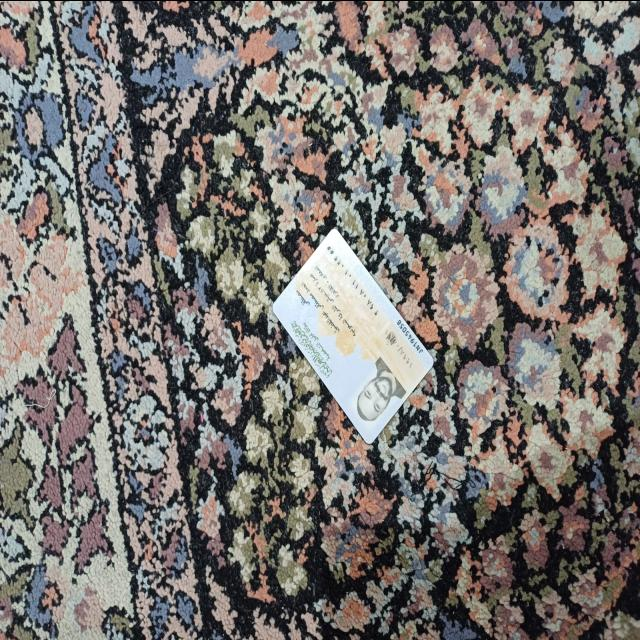ID-cards: (265, 216, 442, 448)
